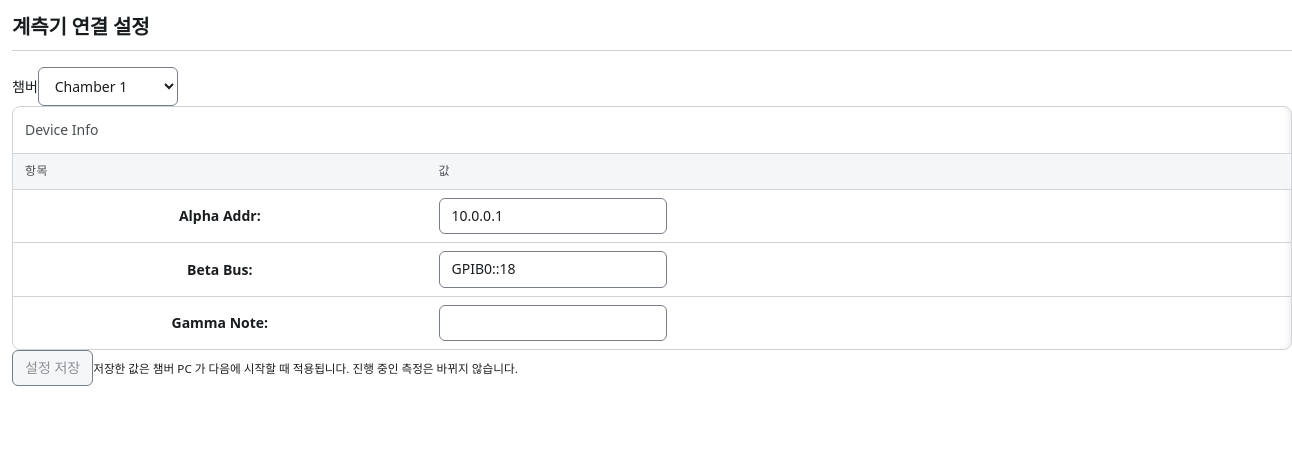
Test: EquipmentConfigPanel › re-reads from the server after a save instead of computing the result
Type "x" into the 3rd field with test id "chambers-equipment-input" at point(553, 323), box [439, 305, 667, 341]
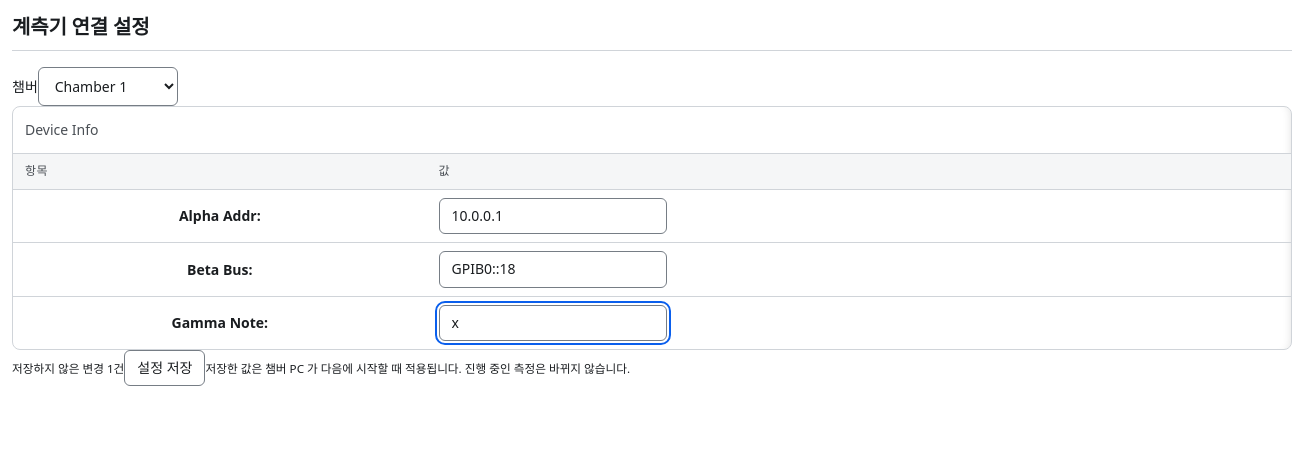
Click the button with test id "chambers-equipment-save" at point(165, 368), box [124, 350, 206, 386]
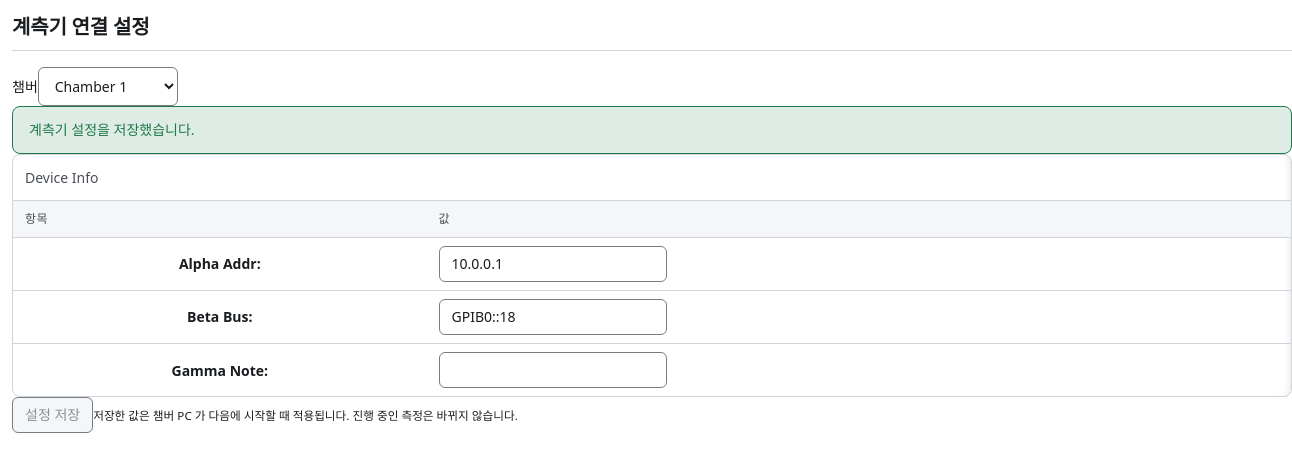
Now the message "계측기 설정을 저장했습니다." is shown, box [12, 106, 1291, 154]
